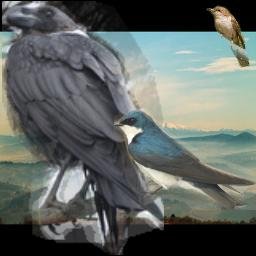Crow: (2, 1, 164, 255)
Cuckoo: (206, 5, 250, 68)
Swallow: (114, 109, 256, 210)
